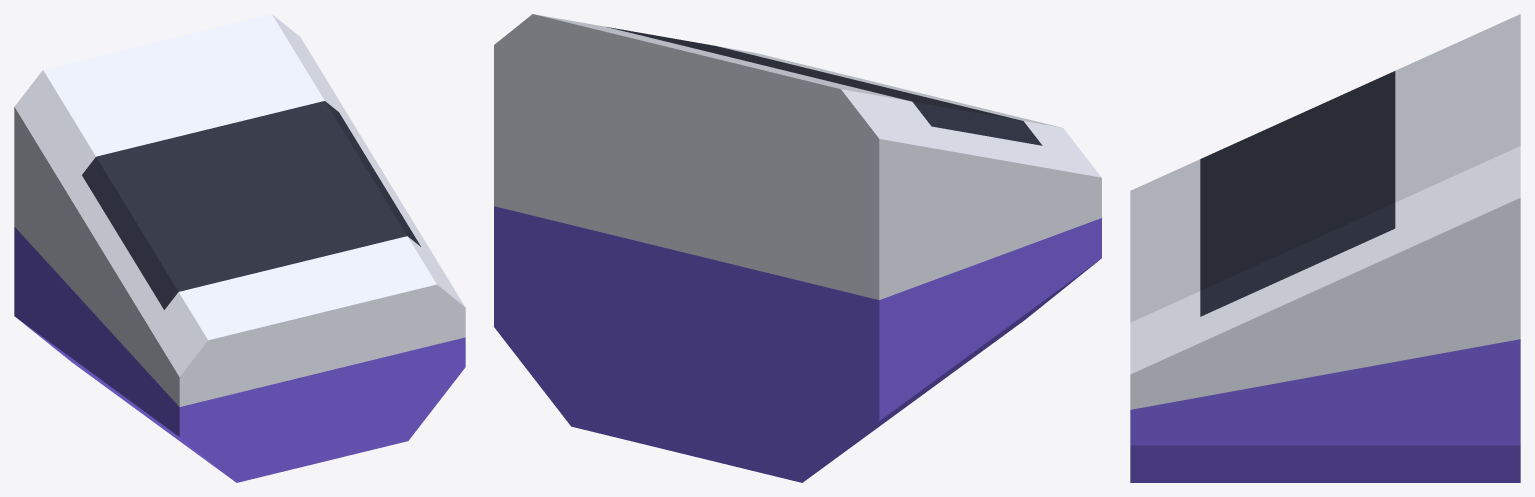
Rendered from Cabin_3.fbx.
The picture shows the model from 3 angles, left to right: view 1: azimuth 30°, elevation 25°; view 2: azimuth 150°, elevation 25°; view 3: azimuth 270°, elevation 25°; orthographic projection. The views are drawn at different scales.
Visible parts, largest first — view 1: hull_cockpitSlant; view 2: hull_cockpitSlant; view 3: hull_cockpitSlant.
Boxes of the visible parts, x1,y1,x2,y2 form: hull_cockpitSlant: (14, 14, 465, 482); hull_cockpitSlant: (494, 14, 1101, 482); hull_cockpitSlant: (1130, 14, 1520, 482).
Bounding box in the file's own units: 10 × 10 × 10.
